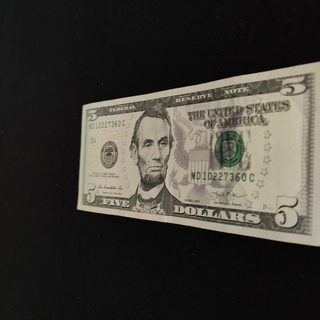5USDFront: (76, 60, 320, 247)
